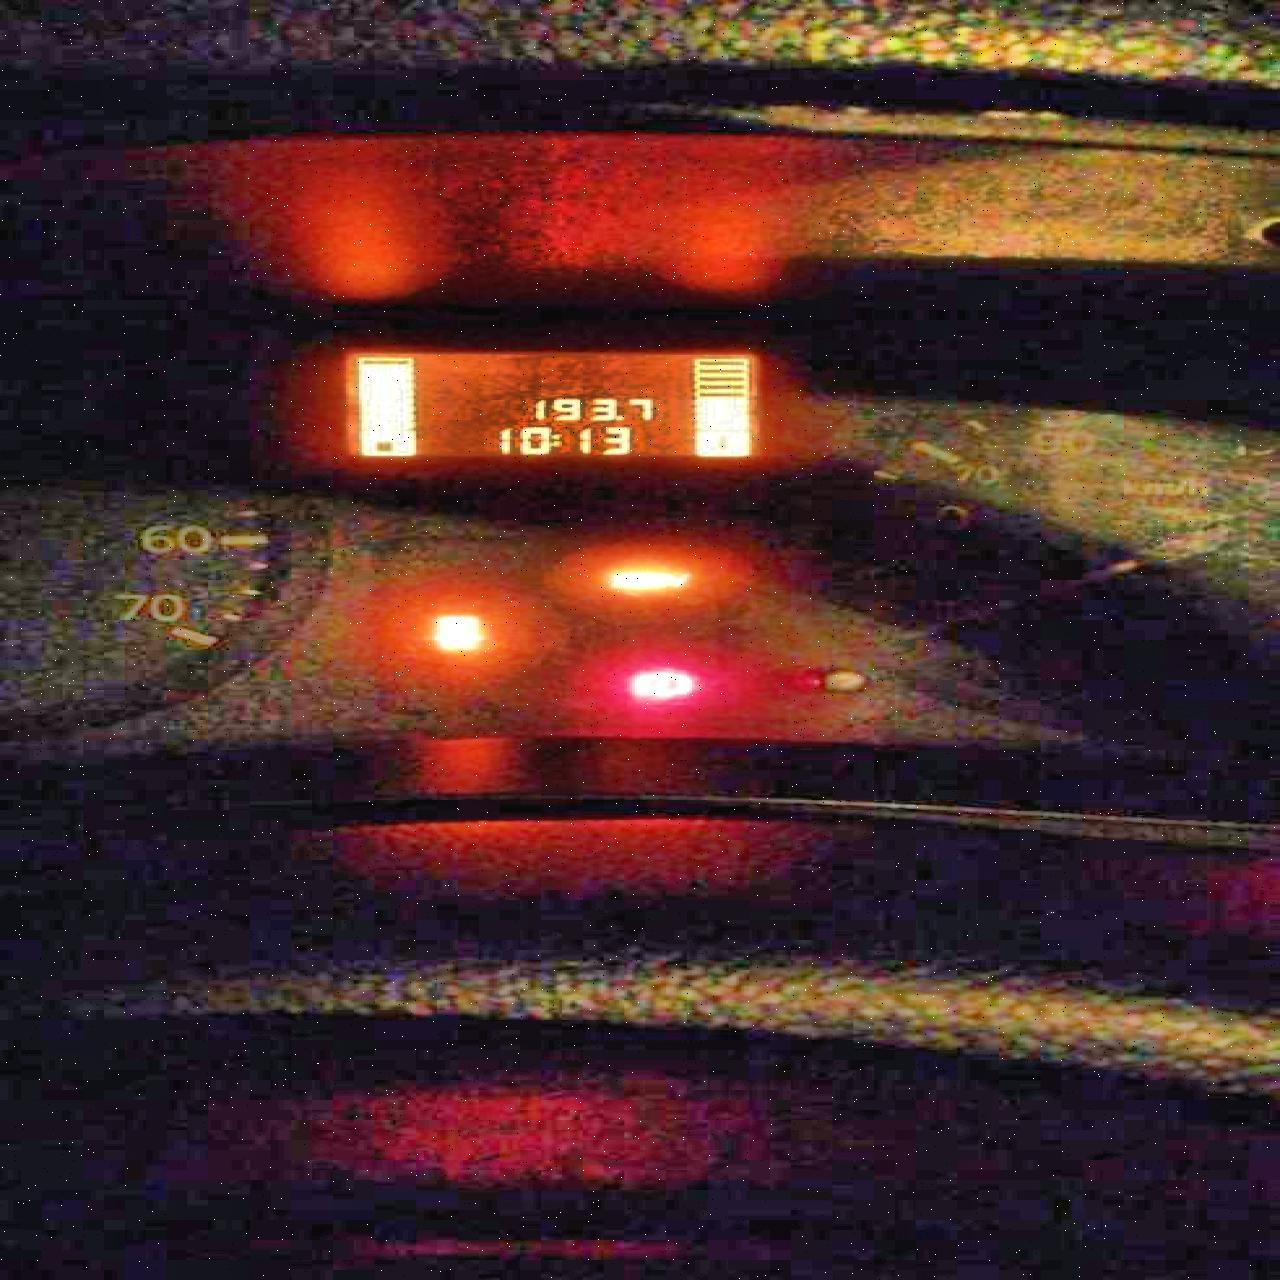-: (614, 414, 625, 421)
0: (515, 425, 549, 455)
1: (491, 425, 512, 454), (572, 425, 591, 454), (527, 397, 546, 421)
3: (595, 424, 632, 455), (585, 396, 614, 420)
7: (625, 396, 653, 420)
9: (549, 396, 580, 422)
X: (549, 431, 559, 449)
odometer: (322, 343, 778, 463)
